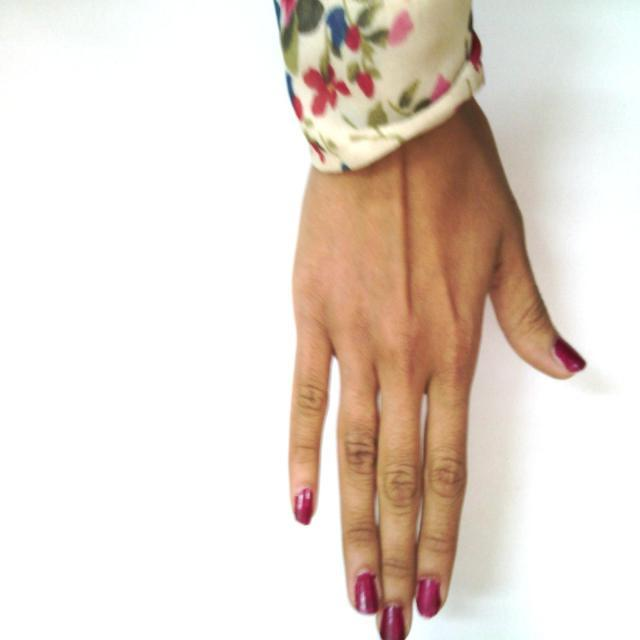Fingernail: (555, 338, 586, 371), (354, 573, 378, 614), (417, 579, 441, 619), (381, 604, 406, 639), (295, 489, 313, 525)
